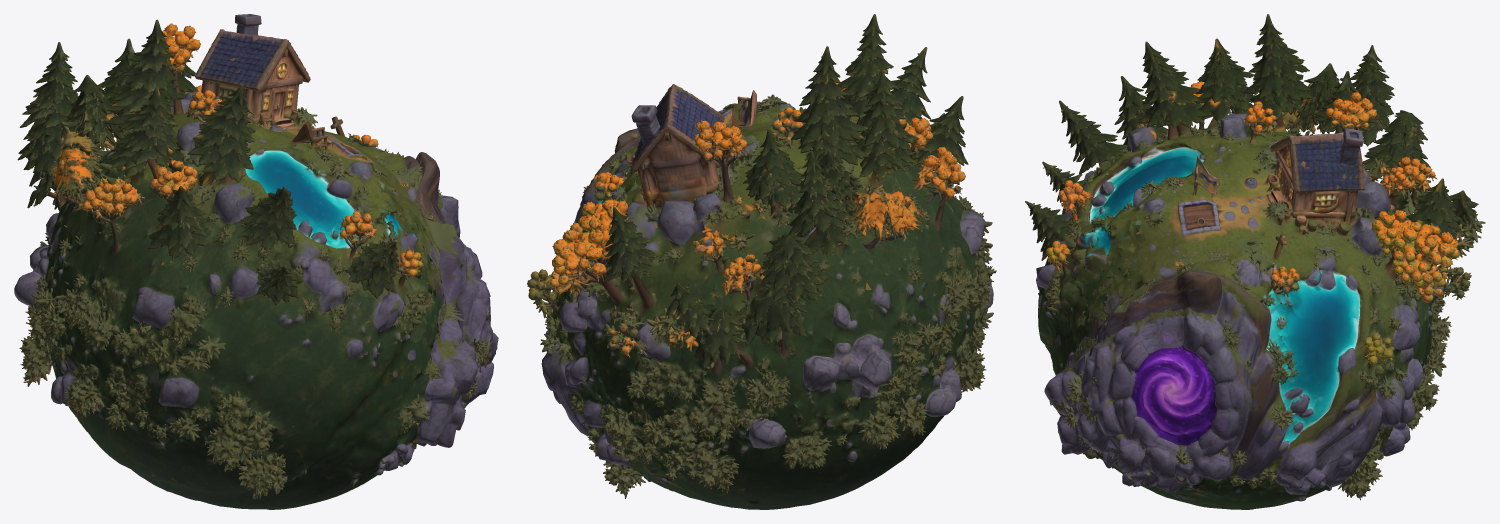
File: planet-hq.glb
3 renders of one model, left to right at view 1: azimuth 30°, elevation 25°; view 2: azimuth 150°, elevation 25°; view 3: azimuth 270°, elevation 25°, orthographic. The views are drawn at different scales.
Visible parts, largest first — view 1: planet; view 2: planet; view 3: planet.
Part boxes in pixels (left/top/right/bottom): planet: left=14, top=14, right=498, bottom=509; planet: left=527, top=14, right=996, bottom=509; planet: left=1025, top=14, right=1485, bottom=509.
Bounding box in the file's own units: 19.59 × 22.01 × 21.05.
Materials: 1 (1 with a texture image).
